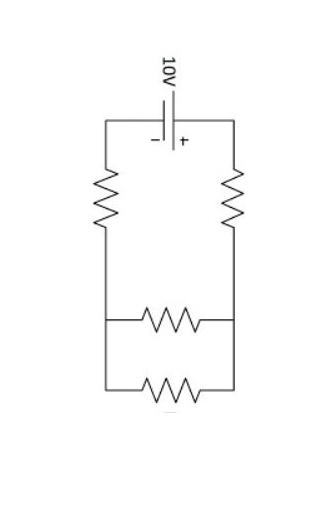resistor: (76, 147, 131, 239), (207, 139, 258, 237), (124, 363, 215, 409), (123, 295, 215, 336)
